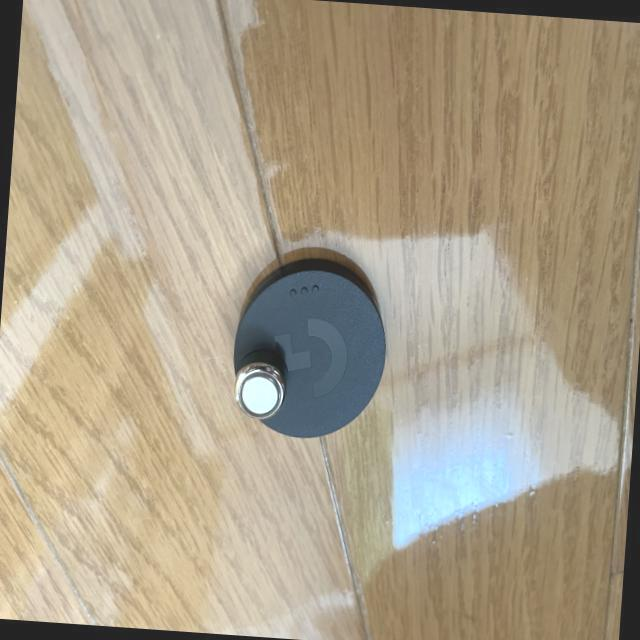COIN: (231, 345, 288, 420)
